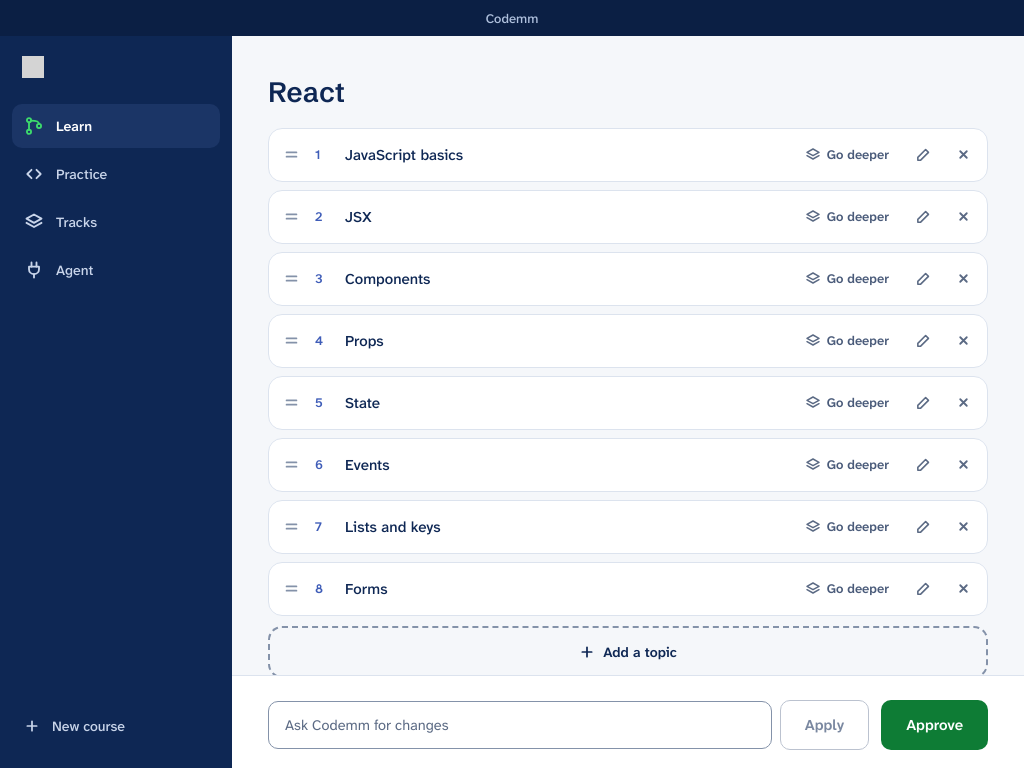
Test: changing the agent › does nothing once the learner moved on before Connect could open
Step 1. Click the button "Agent" → (116, 270), box x1=12 y1=248 x2=220 y2=292
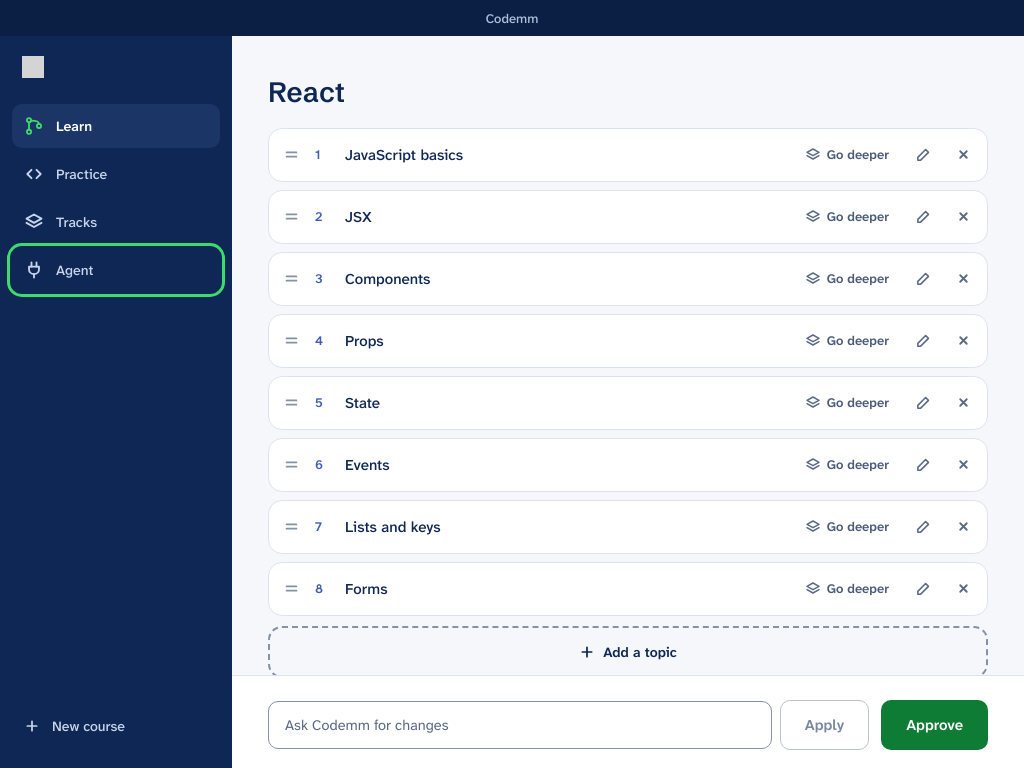
Step 2. Click the button "Tracks" → (116, 222), box x1=12 y1=200 x2=220 y2=244
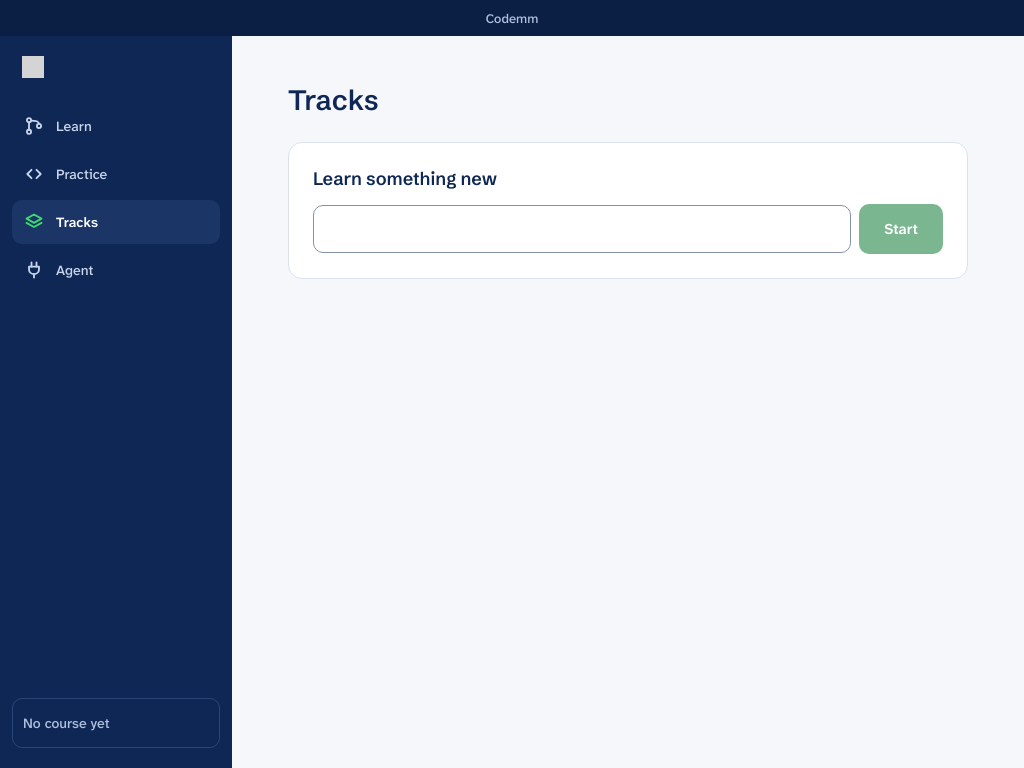
Now the heading "Tracks" is shown, box x1=288 y1=83 x2=379 y2=117
